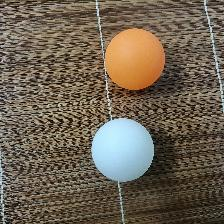WhiteBall: (91, 117, 154, 182)
YellowBall: (103, 27, 165, 89)
